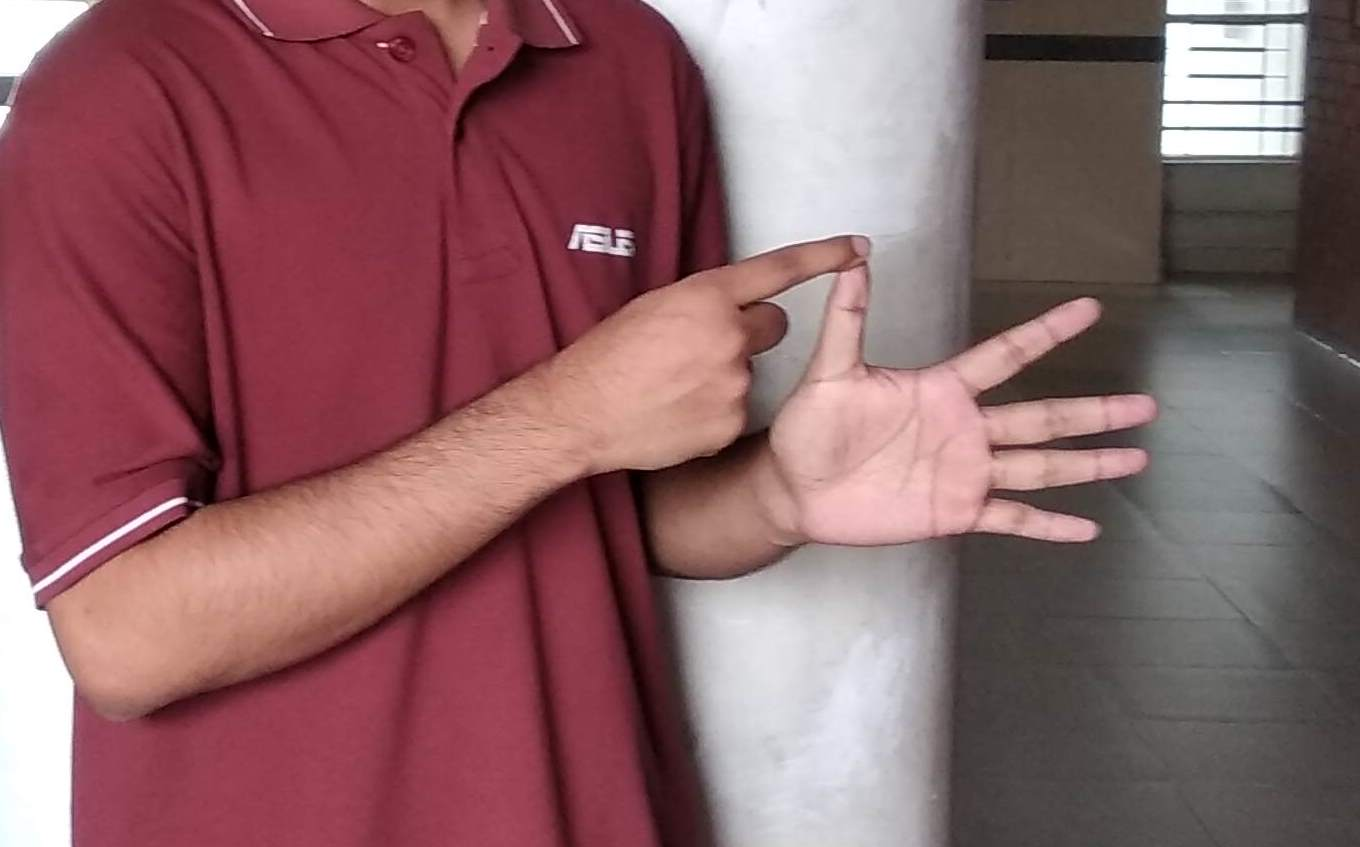a: (630, 231, 1152, 554)
